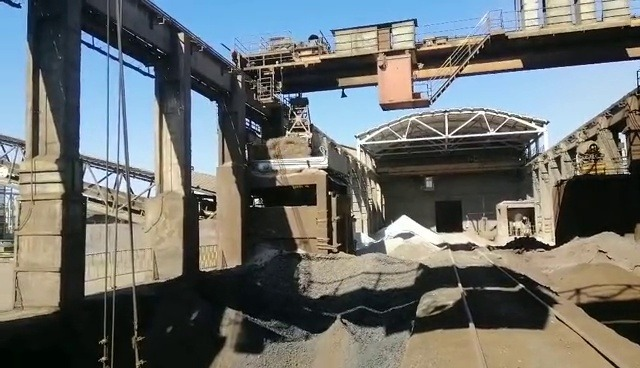dust: (263, 136, 313, 162)
grab: (275, 95, 318, 143)
